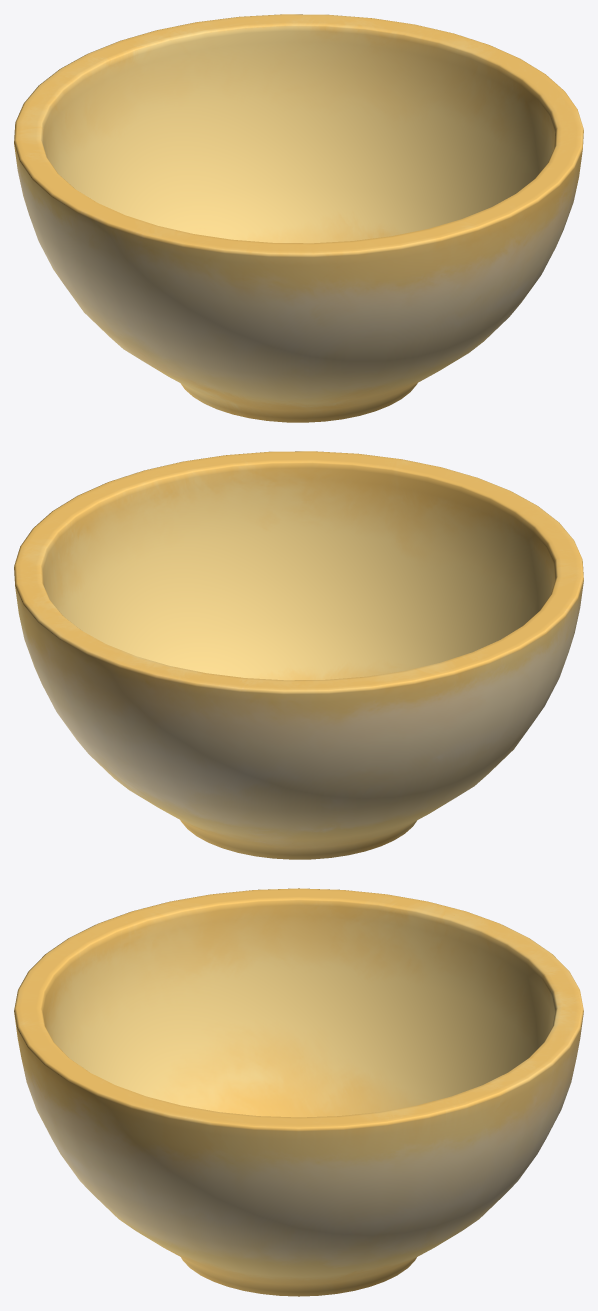
The model's file is MixingBowl_Model.fbx.
3 renders of one model, top to bottom at view 1: azimuth 30°, elevation 25°; view 2: azimuth 150°, elevation 25°; view 3: azimuth 270°, elevation 25°, orthographic.
Visible parts, largest first — view 1: pCylinder1; view 2: pCylinder1; view 3: pCylinder1.
Part boxes in pixels (<box>): pCylinder1: <box>14,14,583,422</box>; pCylinder1: <box>14,451,583,859</box>; pCylinder1: <box>14,888,583,1296</box>.
Bounding box in the file's own units: 14.83 × 6.86 × 14.83.
Materials: 1 (1 with a texture image).
